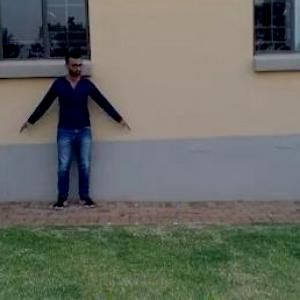land: (19, 54, 129, 222)
